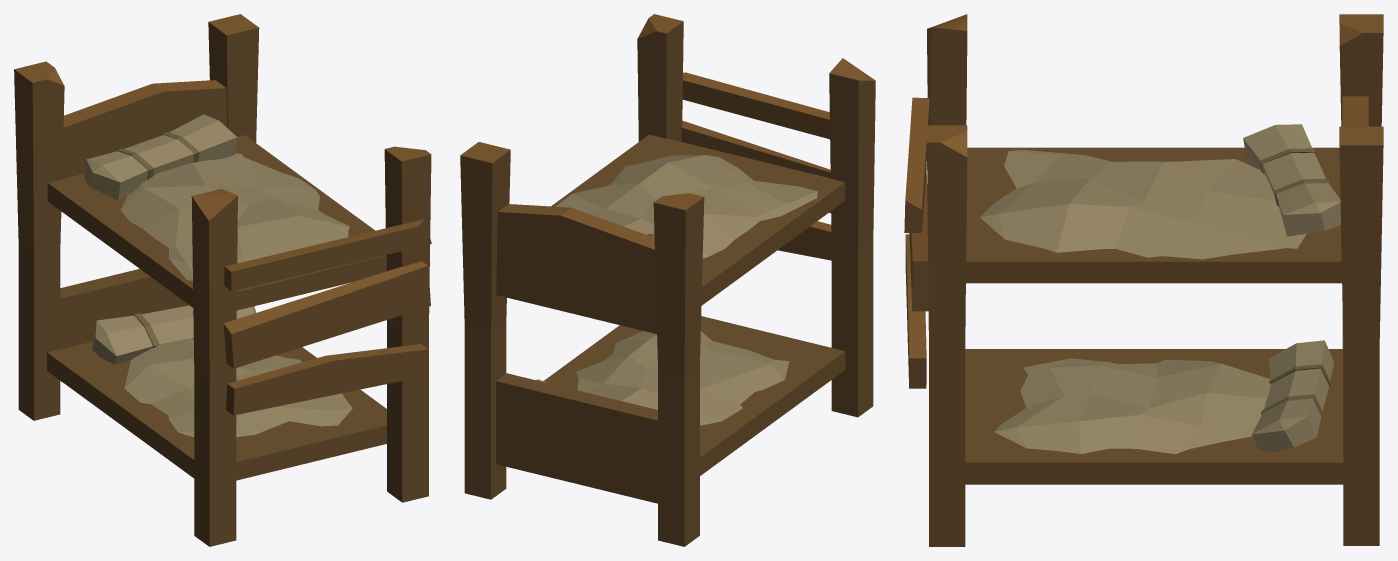
File: DoubleBedWithoutFur_Model.fbx
3 views of the same model, side by side, from view 1: azimuth 30°, elevation 25°; view 2: azimuth 150°, elevation 25°; view 3: azimuth 270°, elevation 25° (orthographic). The views are drawn at different scales.
Parts seen in each view (by area): view 1: DoubleBed2.001; view 2: DoubleBed2.001; view 3: DoubleBed2.001.
Part boxes in pixels (left/top/right/bottom): DoubleBed2.001: left=14, top=14, right=431, bottom=546; DoubleBed2.001: left=460, top=14, right=875, bottom=546; DoubleBed2.001: left=904, top=14, right=1383, bottom=546.
Size of the model in its own units: 147 by 215 by 227.
